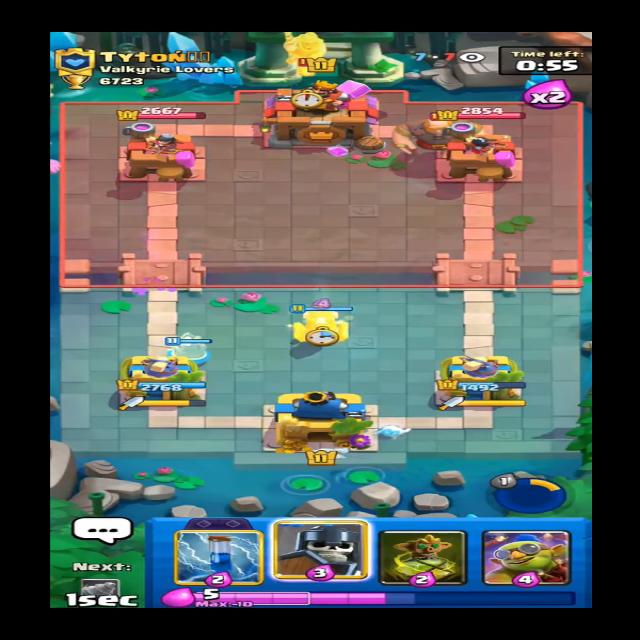Giant: (380, 110, 482, 156)
Prince: (283, 32, 327, 78)
